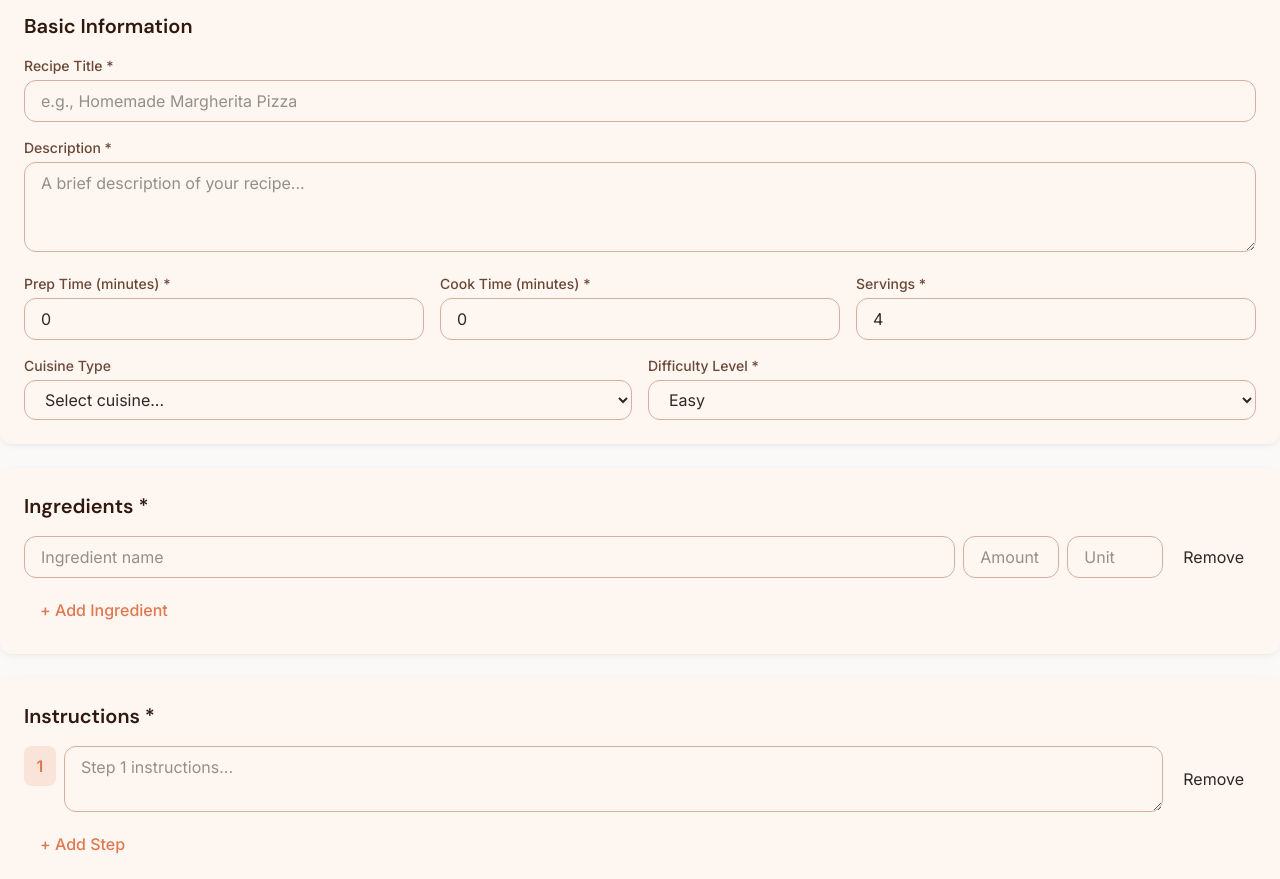
Test: RecipeForm › Instructions Management › should add new instruction
Click the button "+ Add Step": point(83, 844) [24,824,141,864]
(page scrolled)
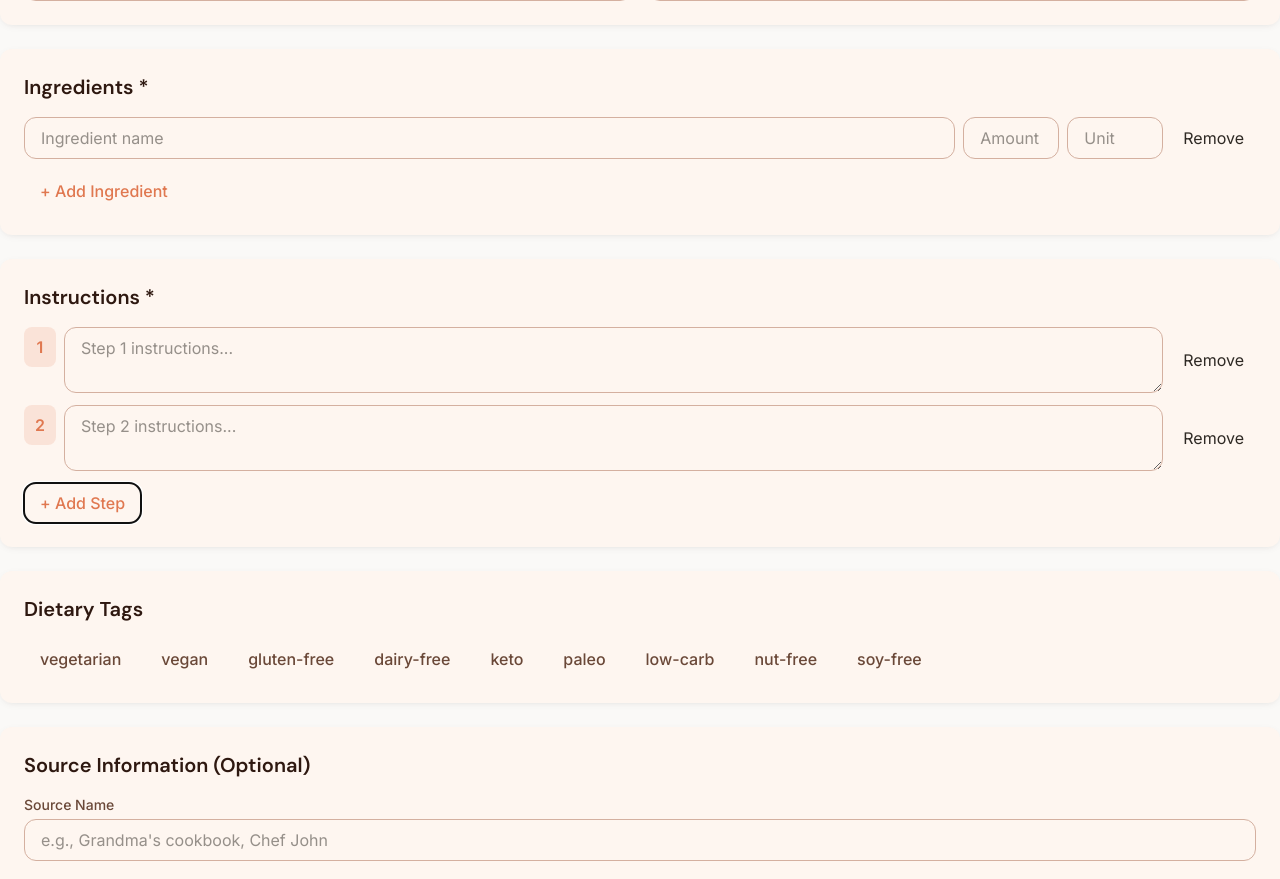
Check: the text box with placeholder "Step 1 instructions..." is shown, box [64,327,1163,393]
Check: the text box with placeholder "Step 2 instructions..." is shown, box [64,405,1163,471]
